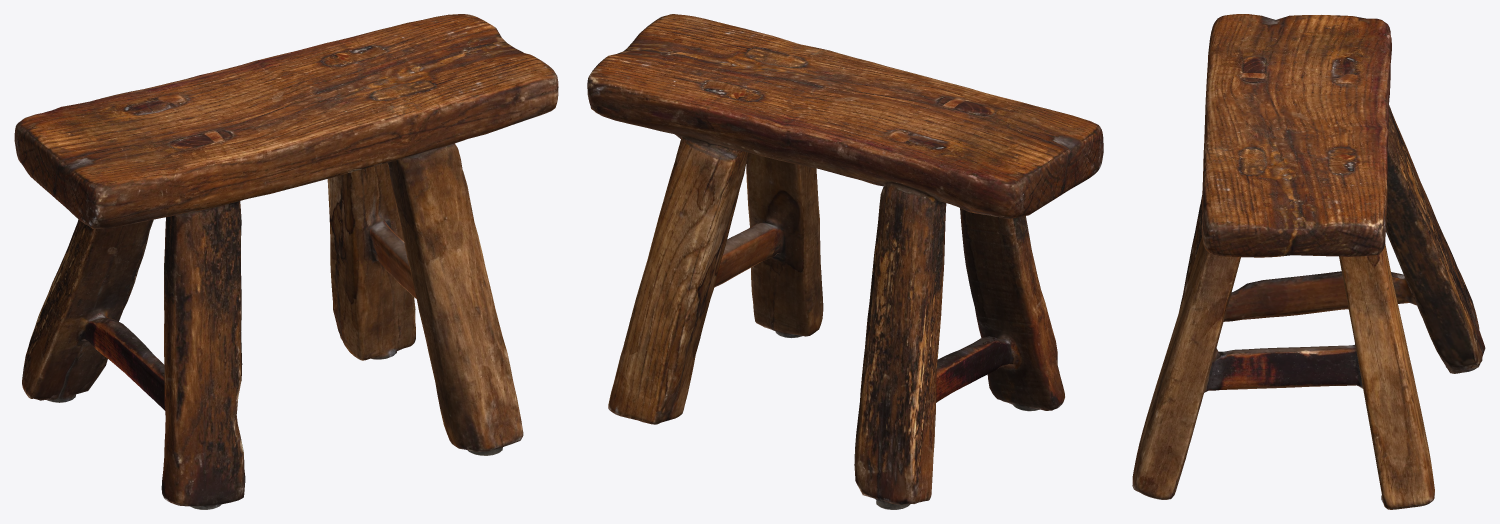
File: antique-wooden-footstool.glb
The picture shows the model from 3 angles, left to right: view 1: azimuth 30°, elevation 25°; view 2: azimuth 150°, elevation 25°; view 3: azimuth 270°, elevation 25°; orthographic projection. The views are drawn at different scales.
Visible parts, largest first — view 1: wooden_stool_02; view 2: wooden_stool_02; view 3: wooden_stool_02.
Part boxes in pixels (x1,y1,x2,y2): wooden_stool_02: (14, 14, 558, 509); wooden_stool_02: (587, 14, 1103, 509); wooden_stool_02: (1132, 14, 1485, 509).
Size of the model in its own units: 0.2652 by 0.1819 by 0.1831.
Materials: 1 (1 with a texture image).
